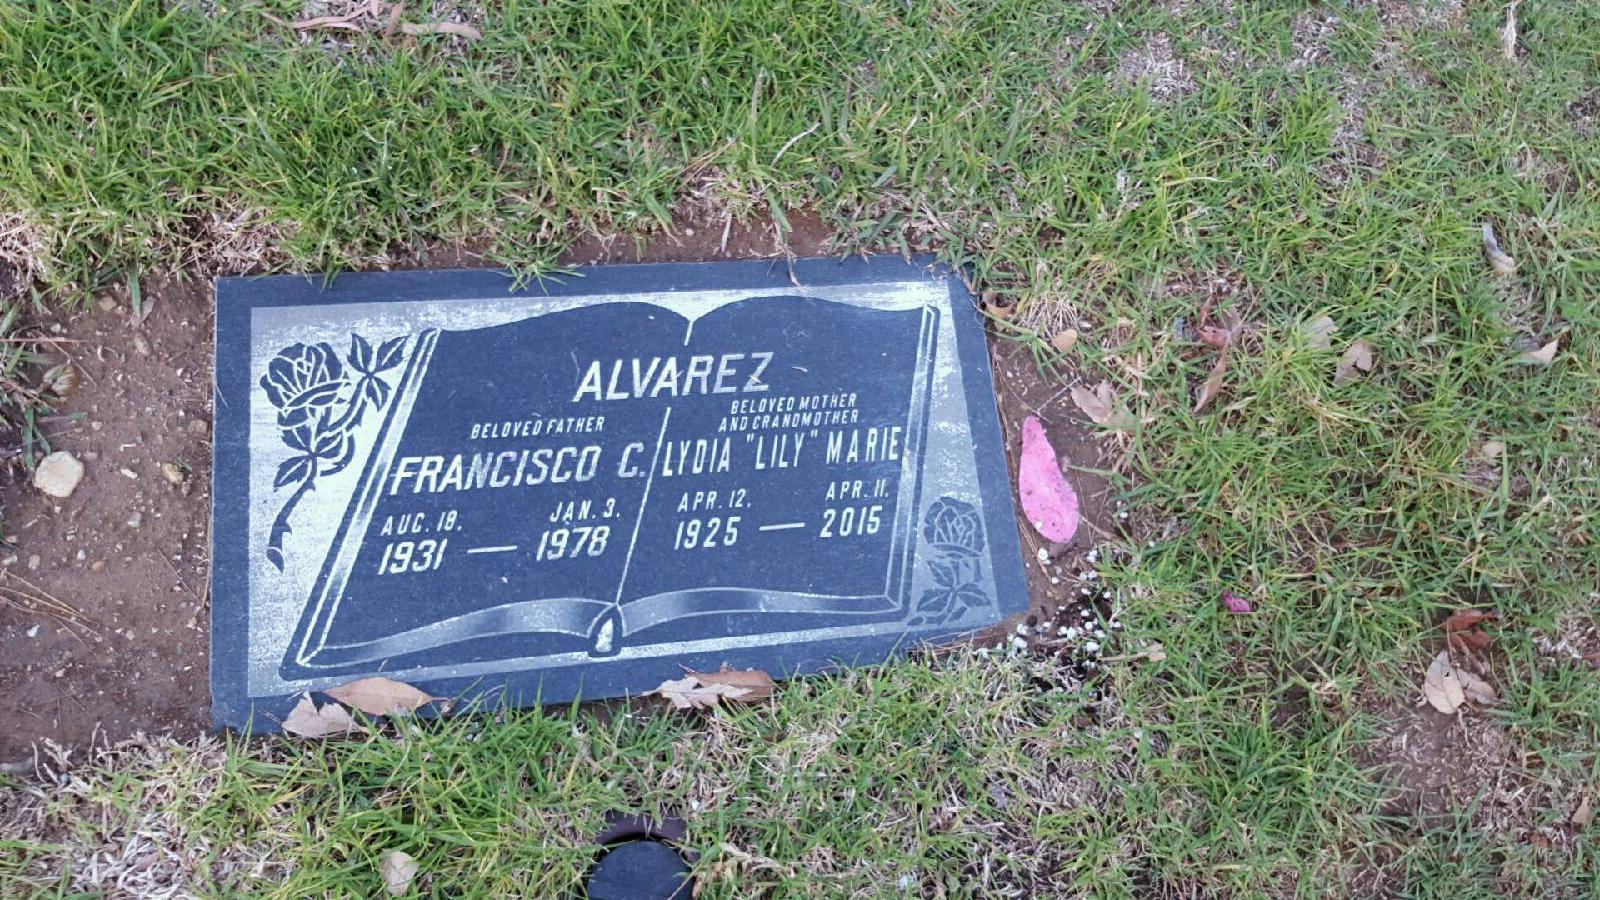flat: (205, 251, 1033, 732)
